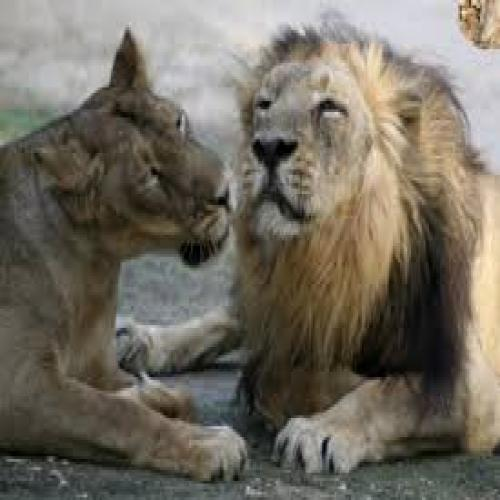lion-endangered: (121, 24, 496, 472), (8, 41, 243, 479)
